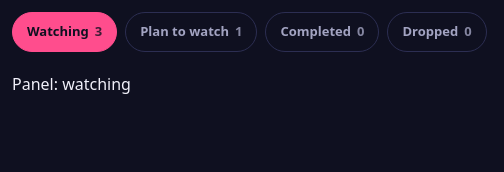
Test case: StatusTabs › selects a tab on click
What coordinates should you click on to do the following:
click the tab "Completed 0"
I would click on:
 (322, 32)
Its box is 266,12 -> 380,52.
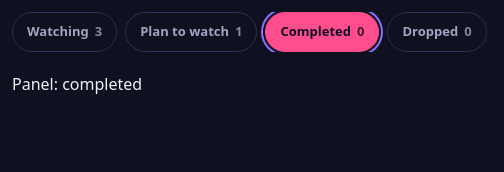
Now the panel reads "Panel: completed", box 12,73 -> 142,95
